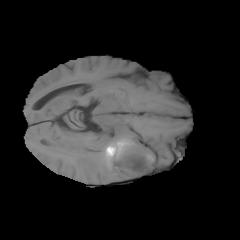glioma: (74, 135, 158, 181)
